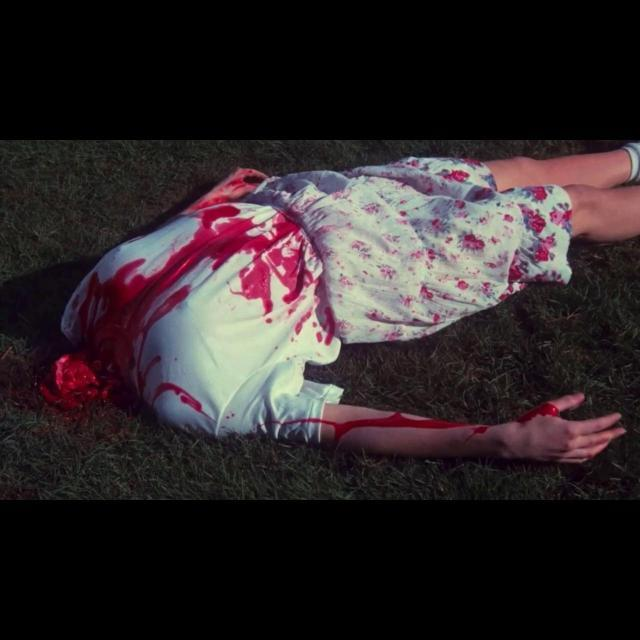blood: (39, 168, 336, 434), (258, 413, 486, 441), (516, 402, 561, 423)
